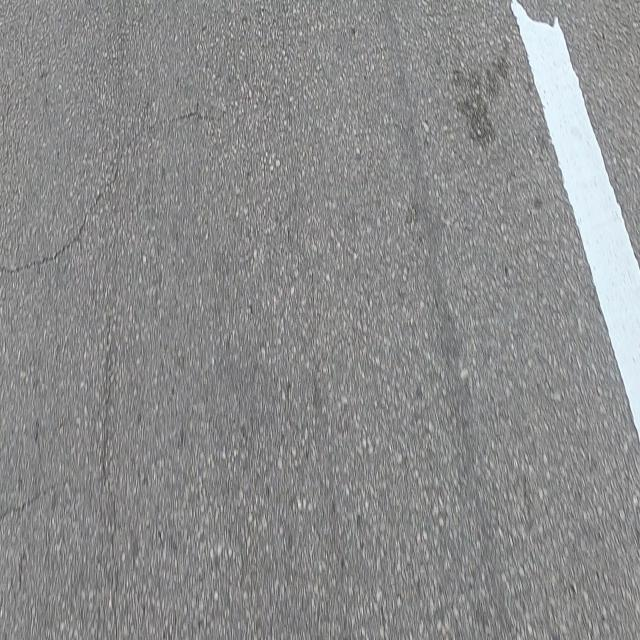Retak-Melintang: (0, 106, 225, 273), (0, 480, 72, 518)
Retak-Memanjang: (99, 320, 122, 640)
